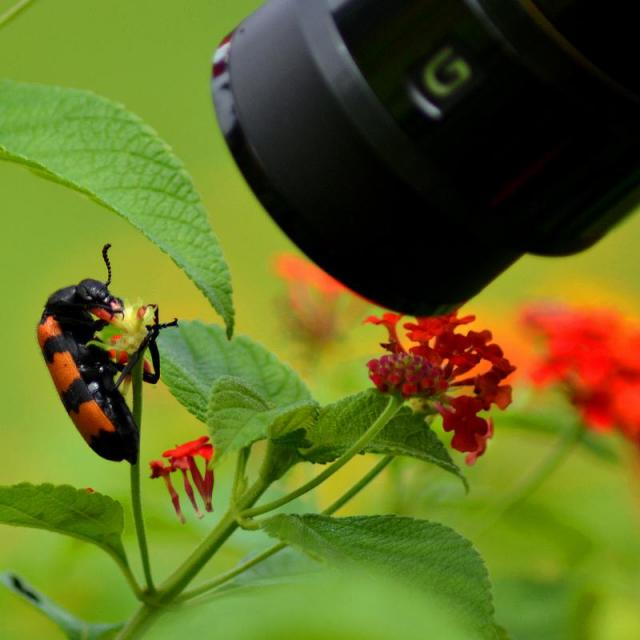BlisterBeetle-Adult-: (34, 226, 184, 479)
